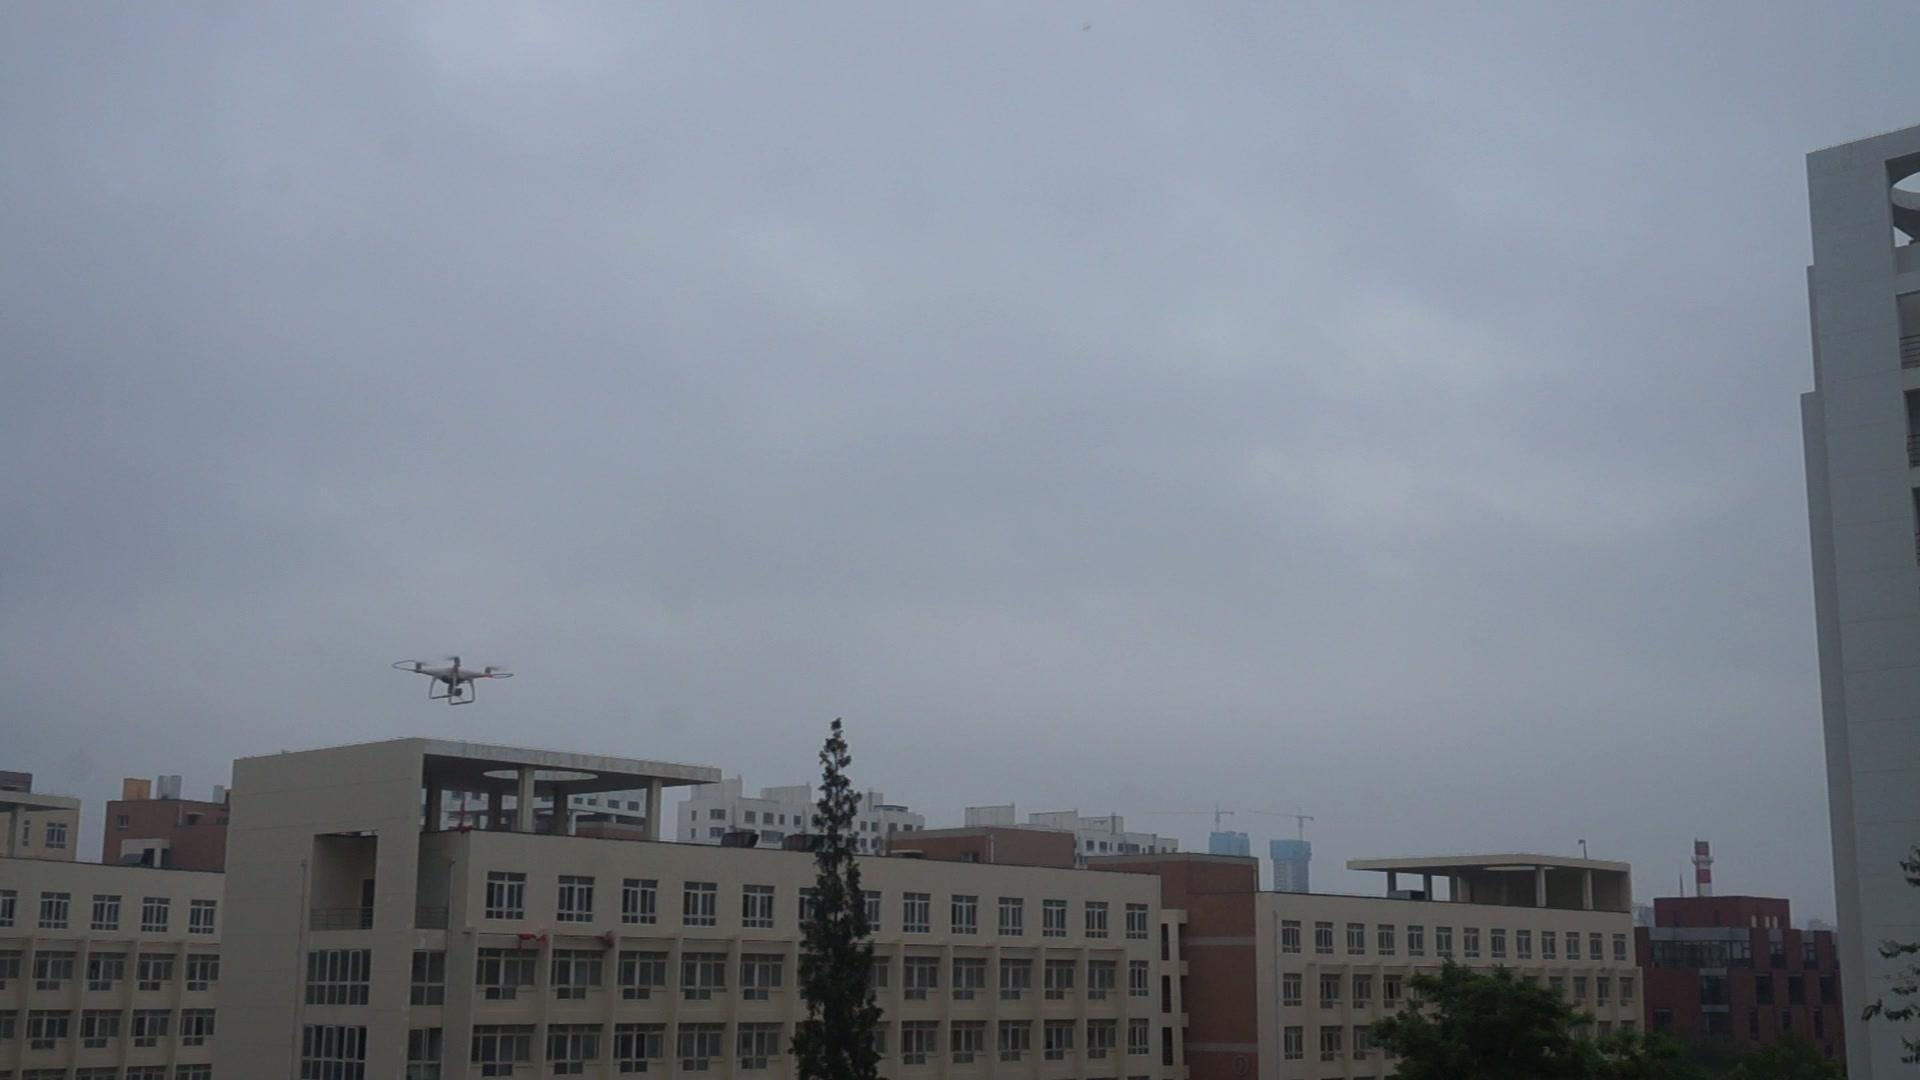UAV: (392, 657, 516, 705)
